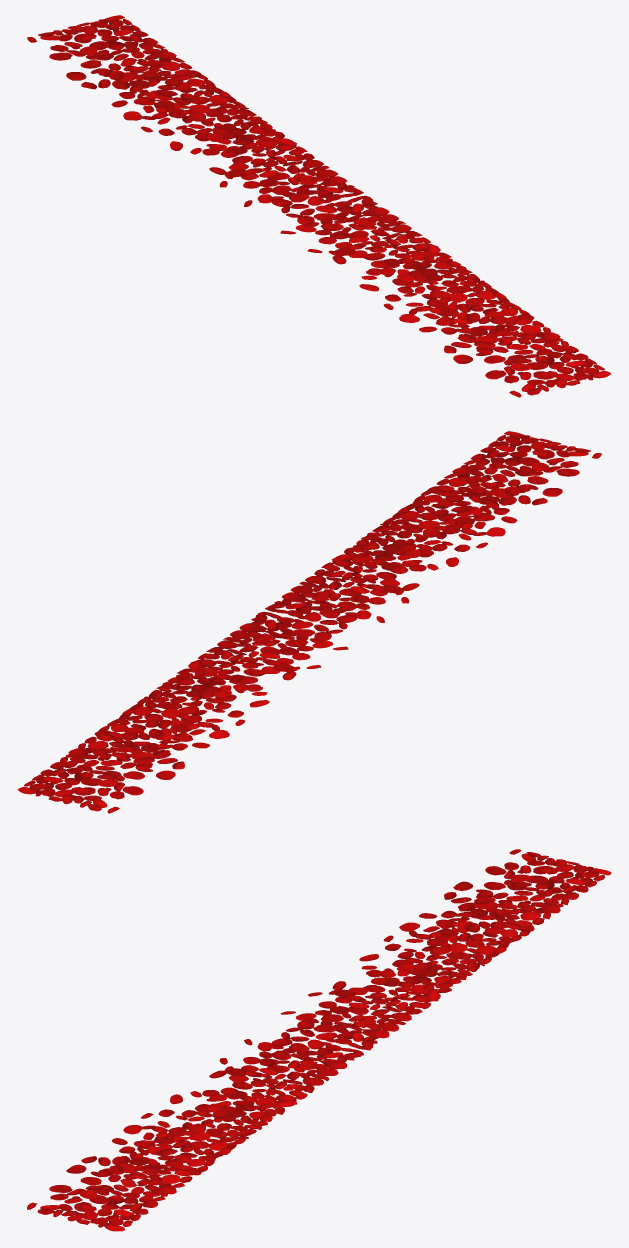
The model's file is DecorFlowerPetals01_2.FBX.
The picture shows the model from 3 angles, top to bottom: view 1: azimuth 30°, elevation 25°; view 2: azimuth 150°, elevation 25°; view 3: azimuth 330°, elevation 25°; orthographic projection.
Visible parts, largest first — view 1: DecorFlowerPetals01_2; view 2: DecorFlowerPetals01_2; view 3: DecorFlowerPetals01_2.
Part boxes in pixels (x1=…): DecorFlowerPetals01_2: x1=27, y1=15, x2=610, y2=397; DecorFlowerPetals01_2: x1=18, y1=431, x2=601, y2=813; DecorFlowerPetals01_2: x1=27, y1=849, x2=611, y2=1231.
Size of what is drawn, in the model's own units: 0.5 by 0.00555 by 4.
